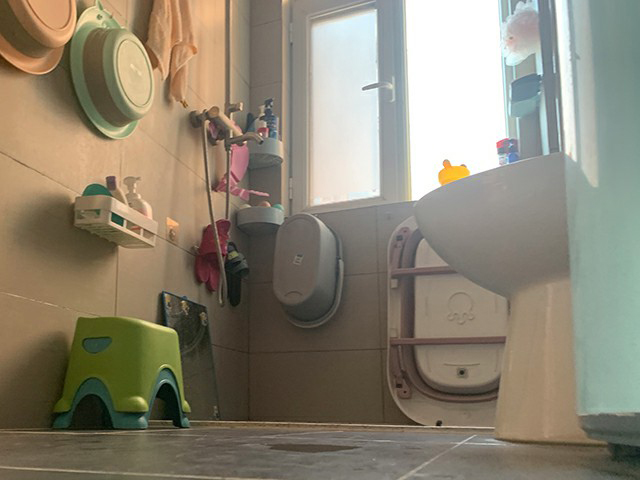closestool: (412, 149, 605, 445)
stool: (53, 316, 191, 431)
